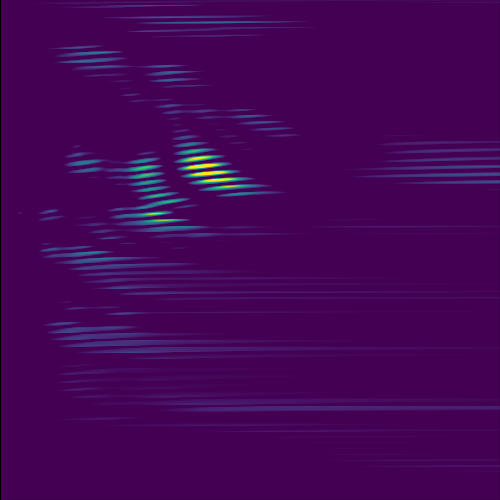semblance: (172, 147, 250, 200)
